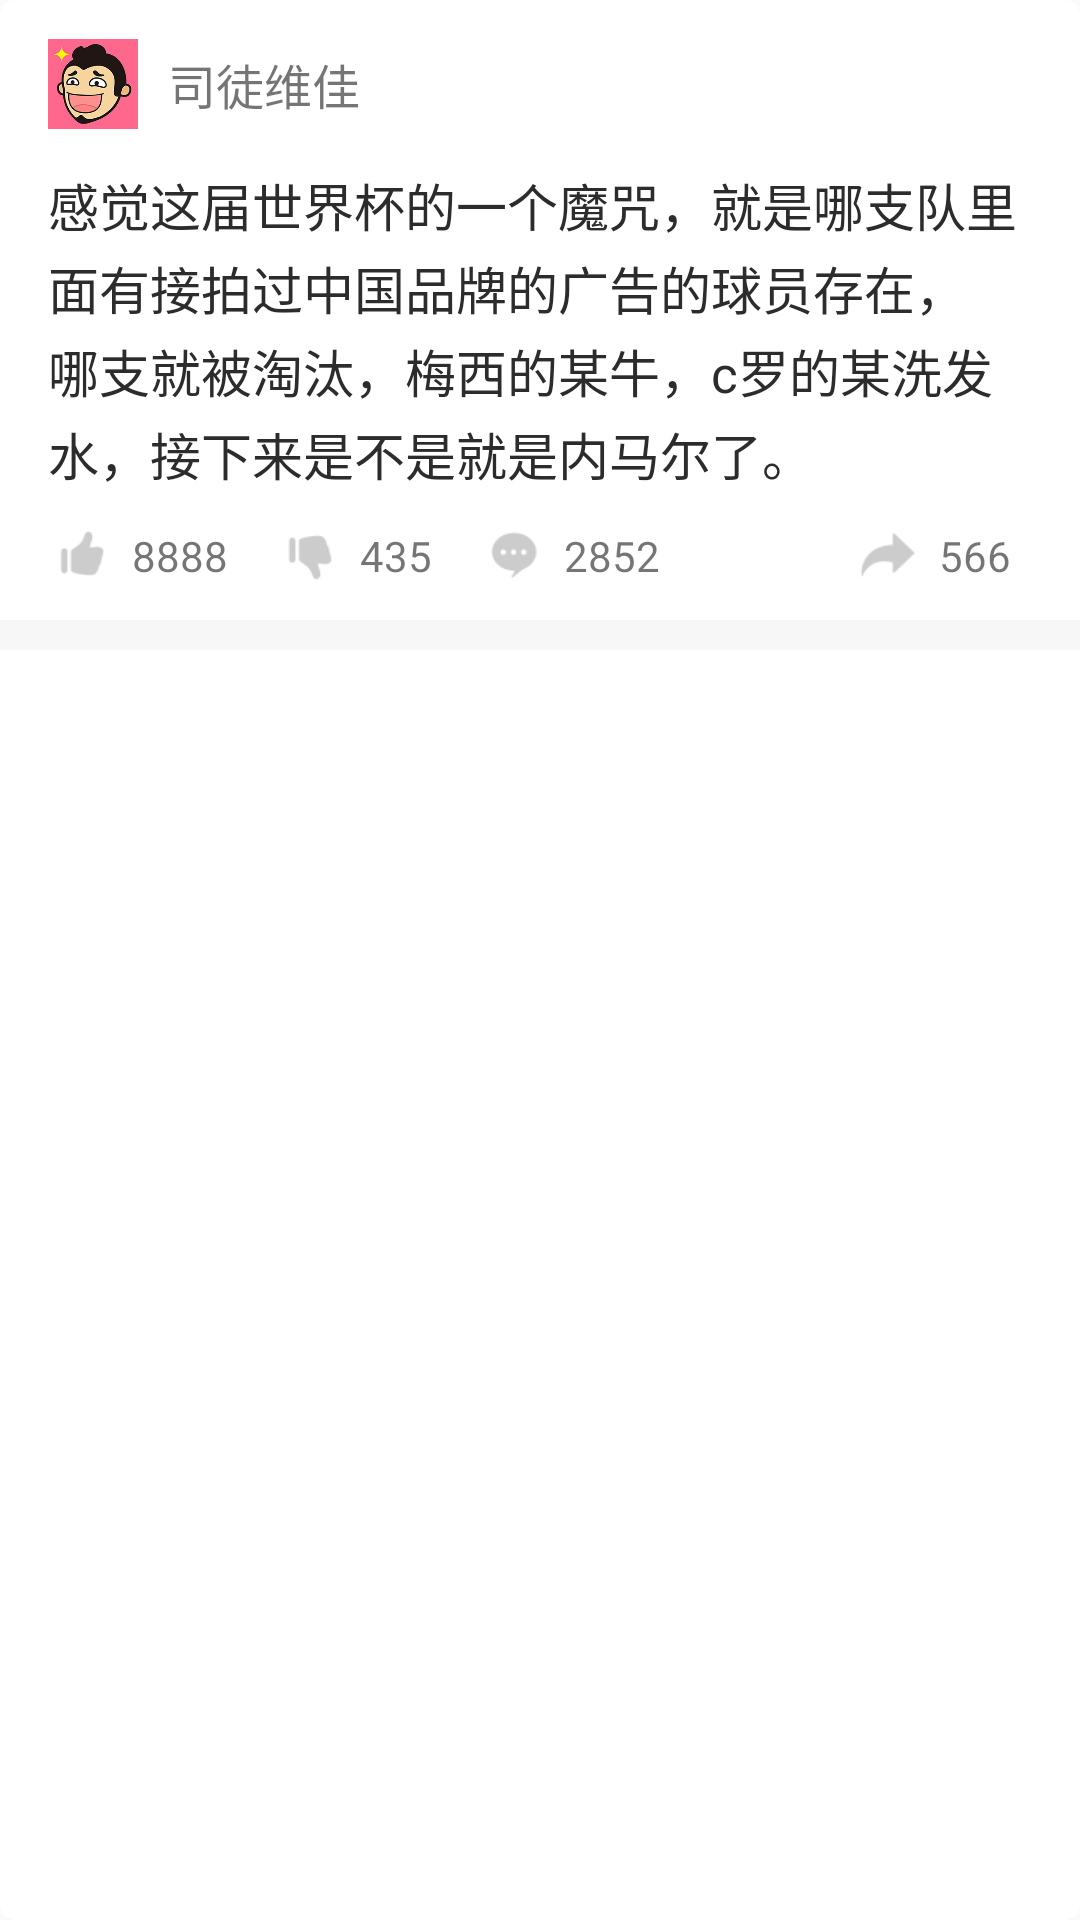

Named icons in this screenshot (1080x1920) and their bounding boxes, (left=x1, top=y1, right=x2, bottom=y2):
boring: (left=289, top=536, right=331, bottom=579)
discussion: (left=492, top=533, right=536, bottom=578)
praise: (left=61, top=532, right=103, bottom=575)
sharedseletor: (left=862, top=534, right=914, bottom=575)
